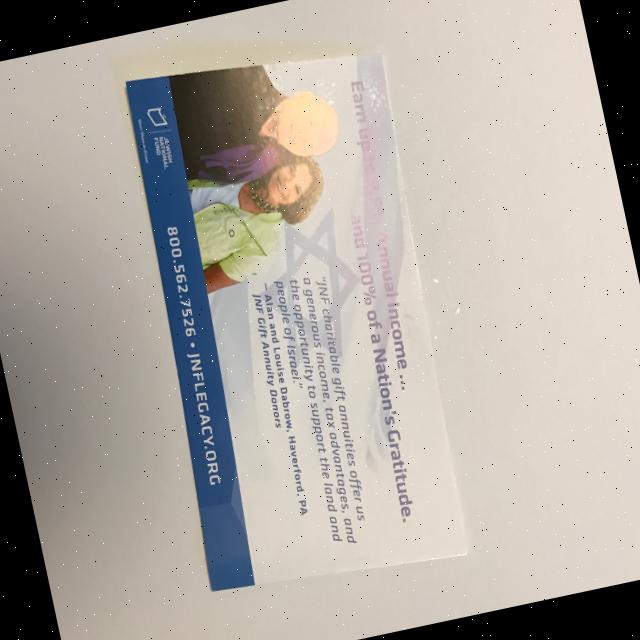paper: (105, 27, 488, 607)
